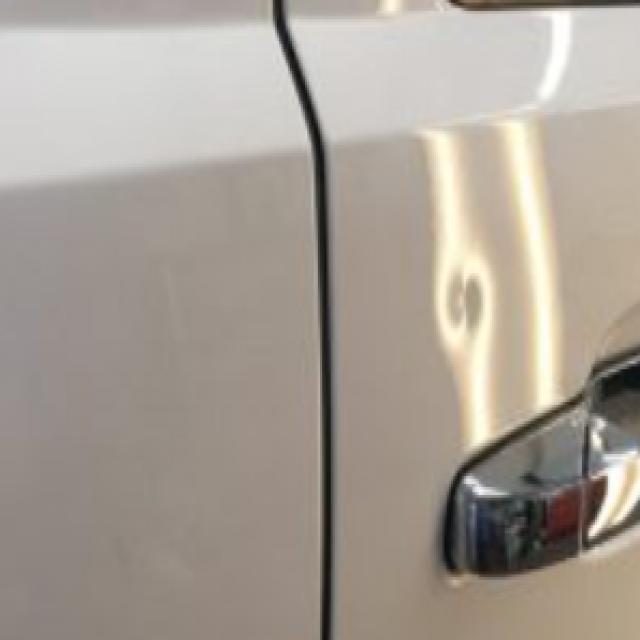dents: (446, 256, 498, 357)
